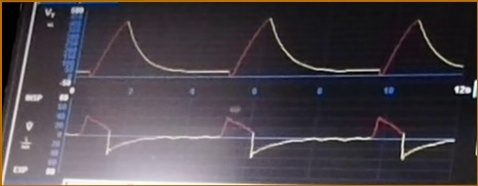Flow: (73, 111, 448, 176)
Leakage Volume: (82, 13, 454, 84)
